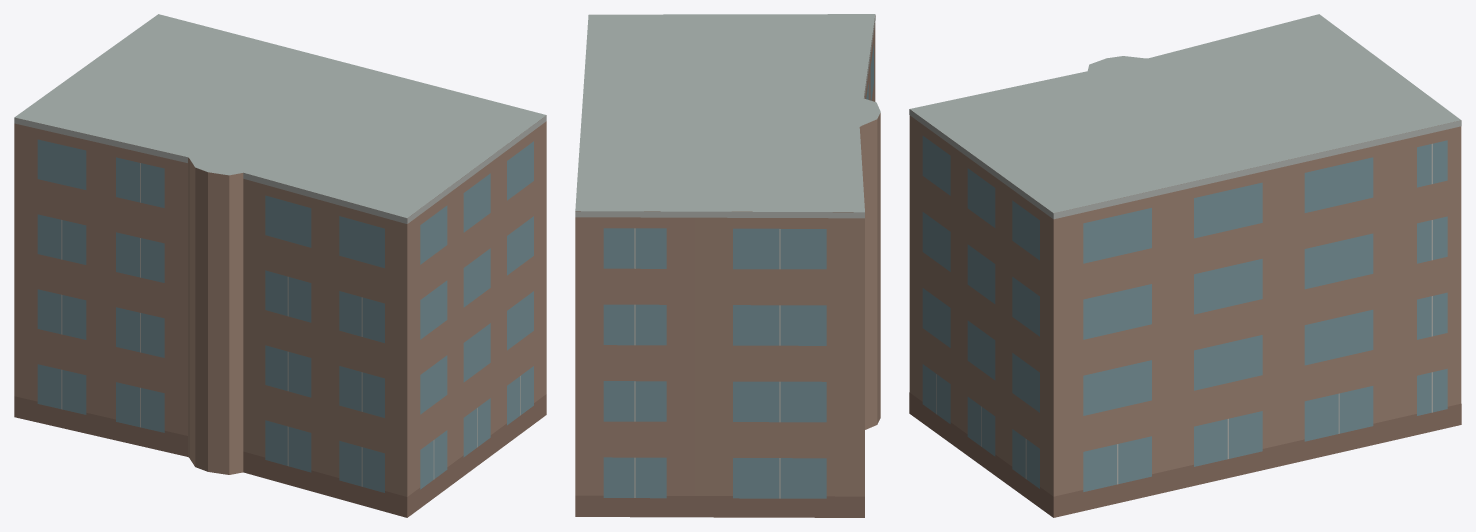
The model's file is survey-upis-32758321.glb.
3 views of the same model, side by side, from view 1: azimuth 30°, elevation 25°; view 2: azimuth 150°, elevation 25°; view 3: azimuth 270°, elevation 25° (orthographic). The views are drawn at different scales.
Visible parts, largest first — view 1: survey-upis-32758321.tmp; view 2: survey-upis-32758321.tmp; view 3: survey-upis-32758321.tmp.
Part boxes in pixels (x1,y1,x2,y2): survey-upis-32758321.tmp: (14,14,546,517); survey-upis-32758321.tmp: (575,14,880,517); survey-upis-32758321.tmp: (909,14,1461,517).
Bounding box in the file's own units: 17.13 × 12.2 × 20.04.
